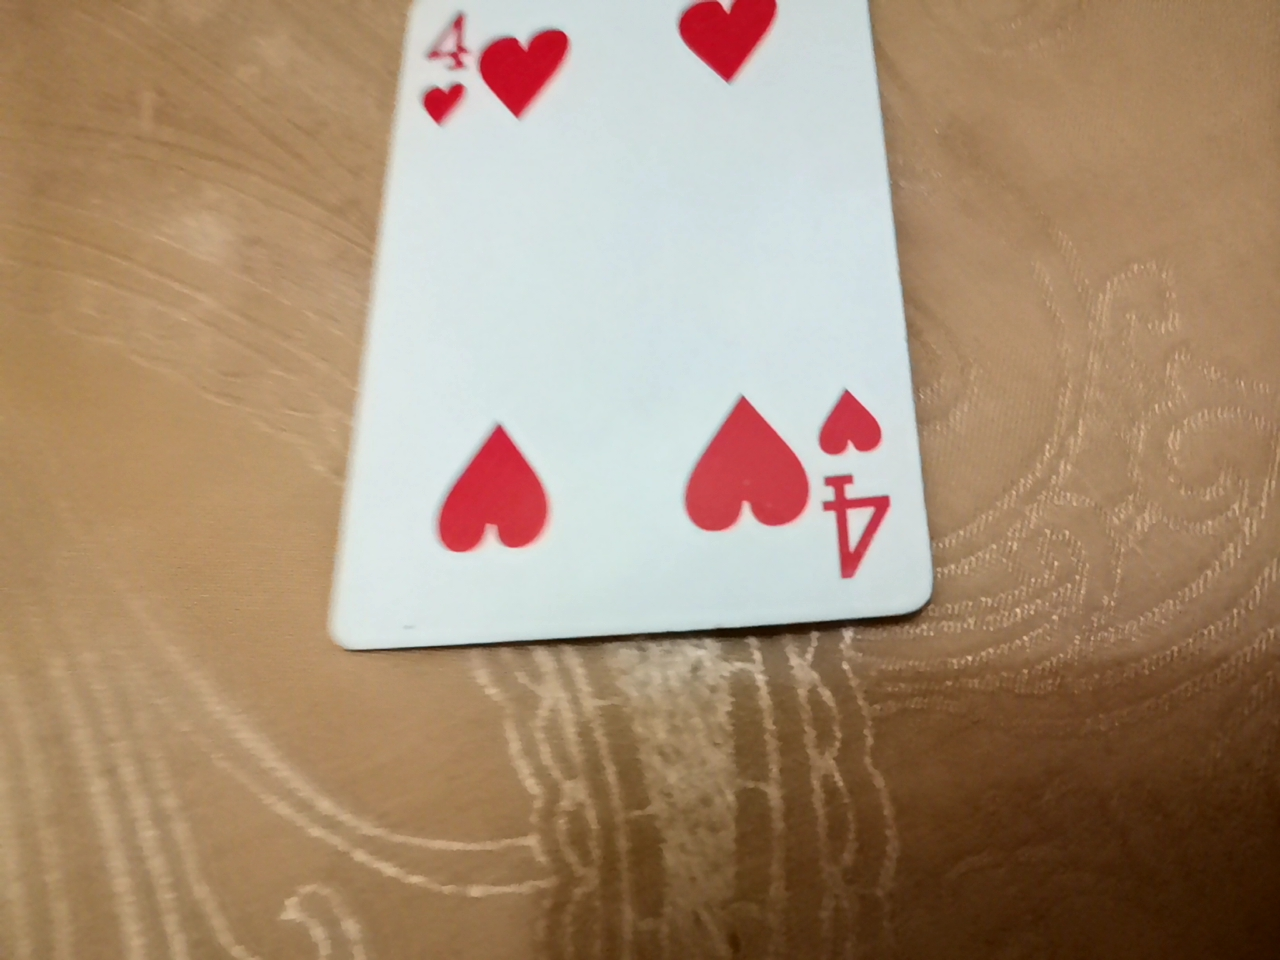hx 4: (421, 10, 946, 658)
